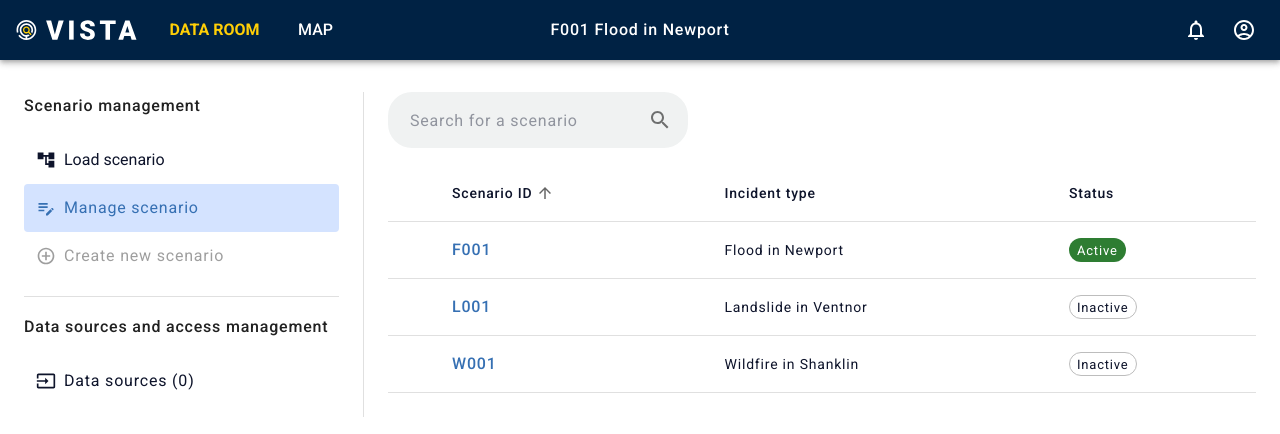
Test: ManageScenarios › filters scenarios by search input
Check: the text "F001" is shown, box [452, 240, 491, 259]
Type "flood" into the field with placeholder "Search for a scenario" at [518, 120], box [396, 92, 640, 148]
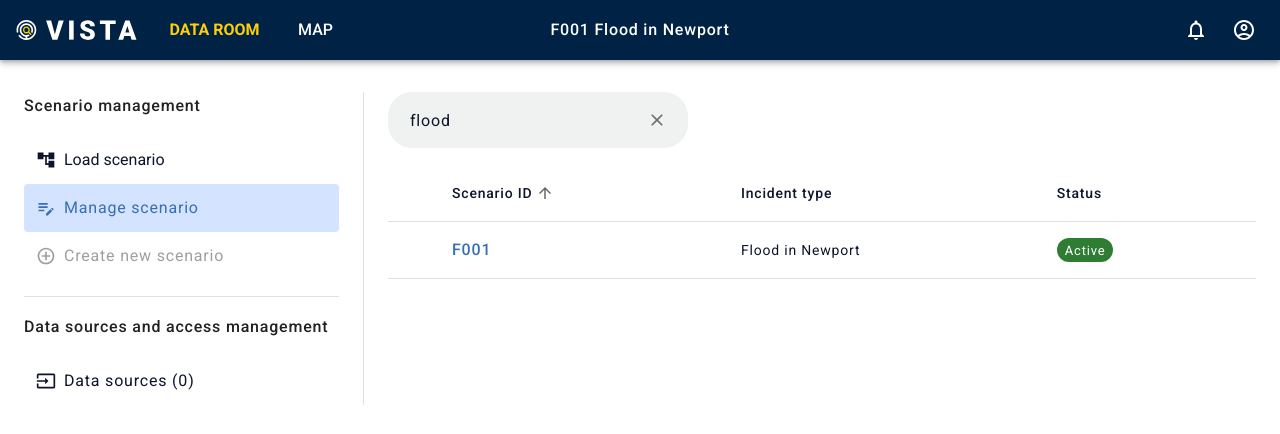
Check: the text "Flood in Newport" is shown, box [725, 222, 1041, 279]
Check: the text "Landslide in Ventnor" is gone
Check: the text "Wildfire in Shanklin" is gone
